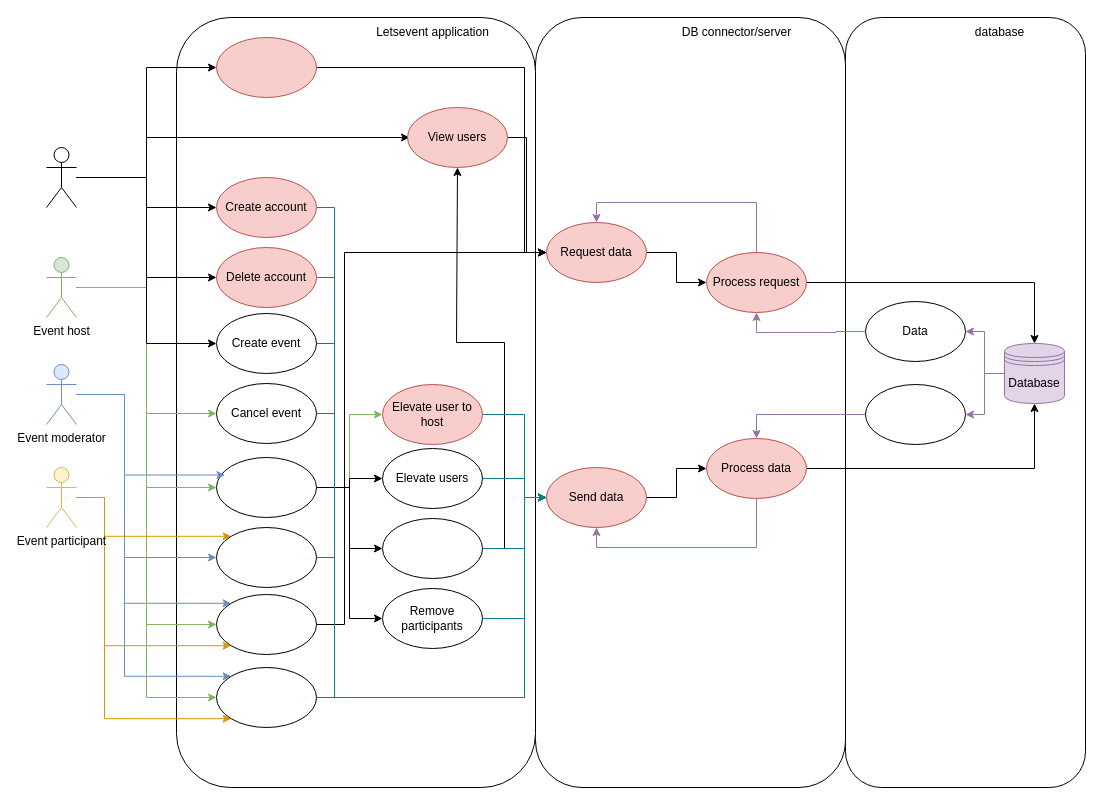
This 1103x805 diagram has some shape labels left out. The shapes that lost their labels are listed below. From the top down, each one's centre as x and y in pixels, then its label:
the point at 266,67: View event
the point at 61,177: Any user
the point at 915,414: Response
the point at 266,487: Edit event data
the point at 266,557: Leave event
the point at 432,548: Invite participants
the point at 266,624: Read chat
the point at 266,697: Write chat message
